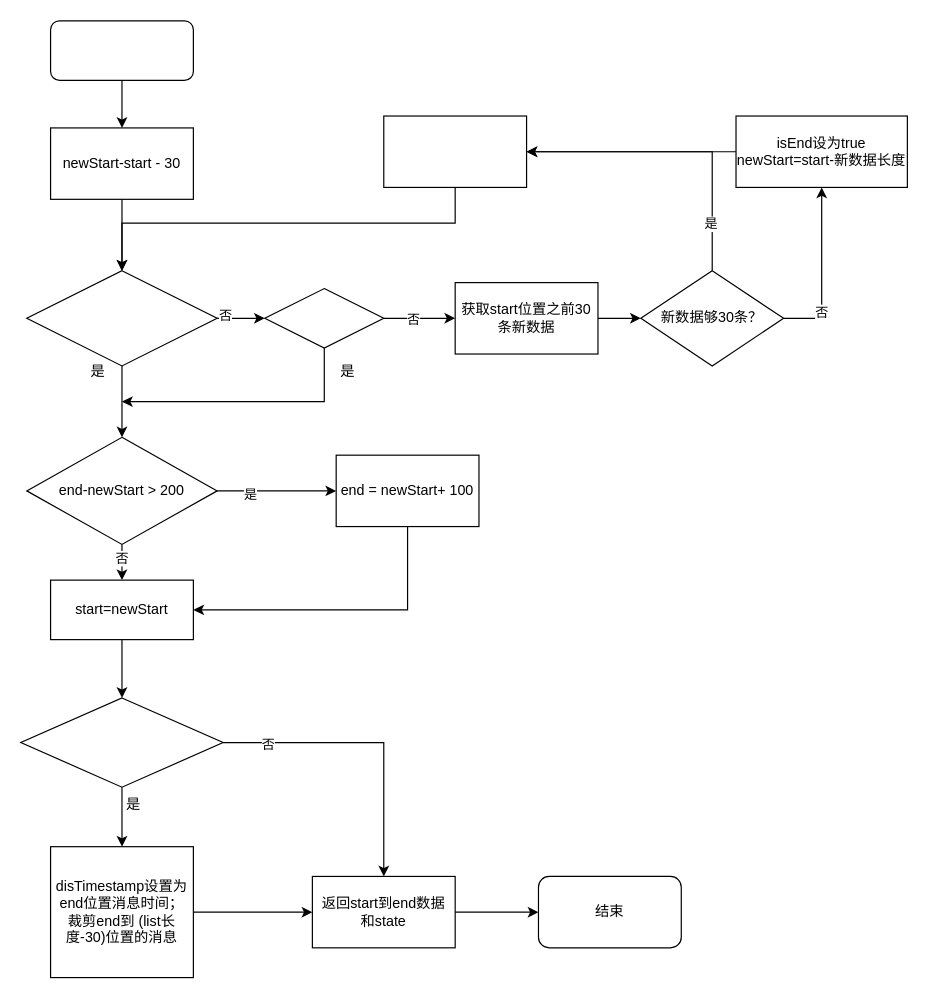
Image size: 928x998. Some labels were removed from this diagram. Here are the shapes that lost their labels. From the top down, the centre of each, then its label:
At pixel 121 50: "获取当前顶部数据".
At pixel 455 151: "merge新数据到 list头".
At pixel 121 318: "newStart位置有 数据？".
At pixel 324 317: "isEnd?".
At pixel 121 742: "list长度-end > 30？".
